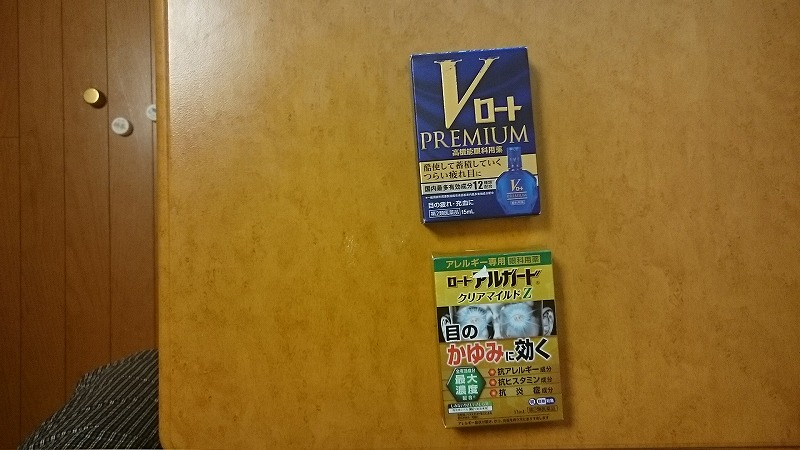C: (423, 244, 573, 435)
D: (405, 40, 551, 225)
